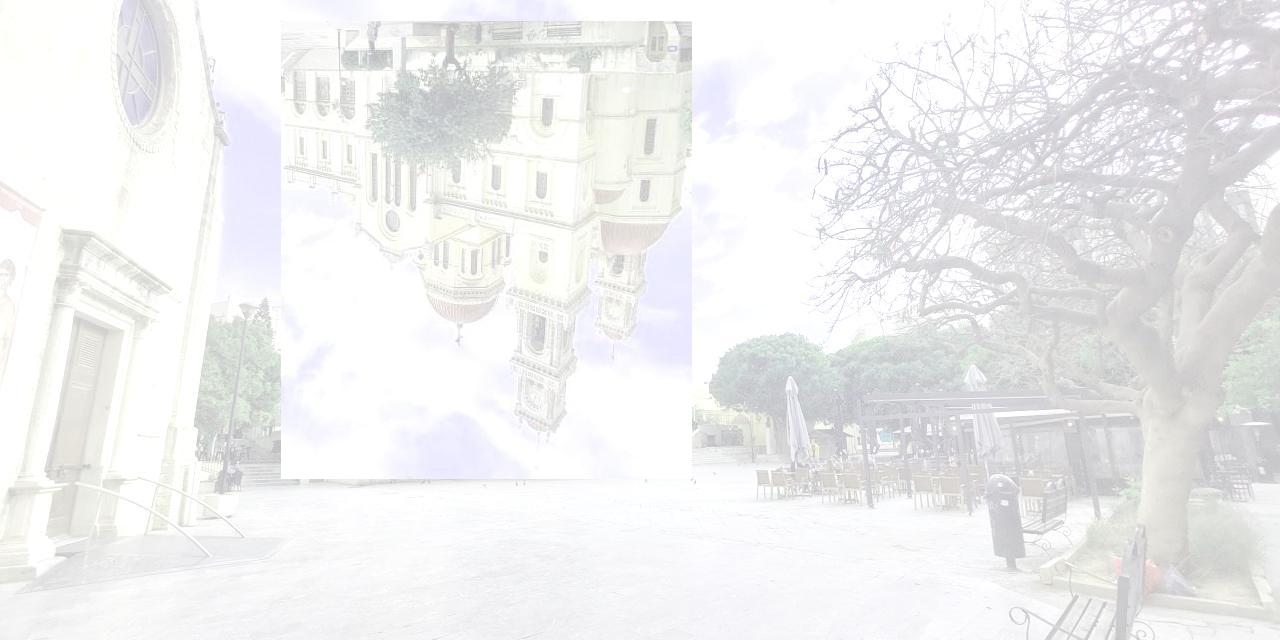Agios Minas: (282, 22, 693, 480)
